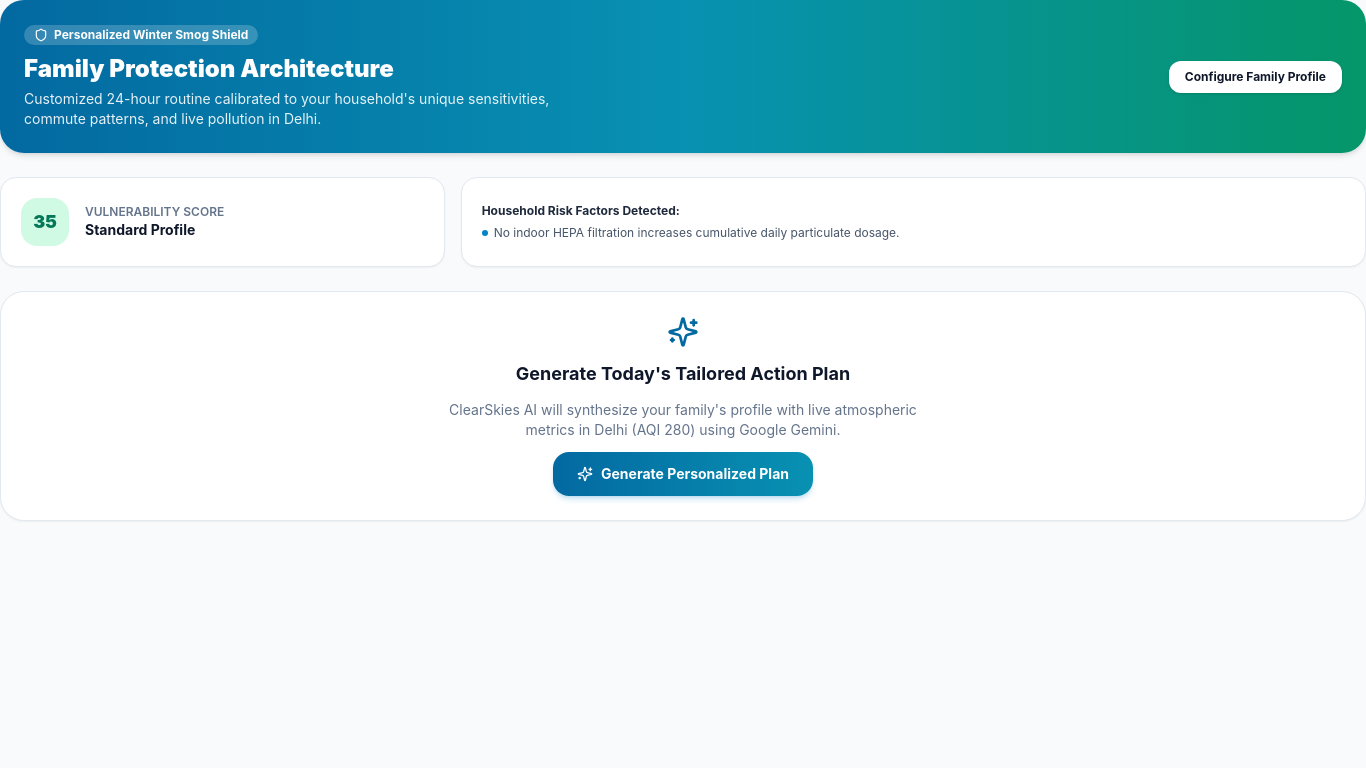
Test: FamilyPlanView › uses a generic alert when plan generation throws a non-Error value
This screenshot has width=1366, height=768.
Click the button "Generate Personalized Plan" at (683, 474), box top-left (553, 452), bottom-right (813, 496)
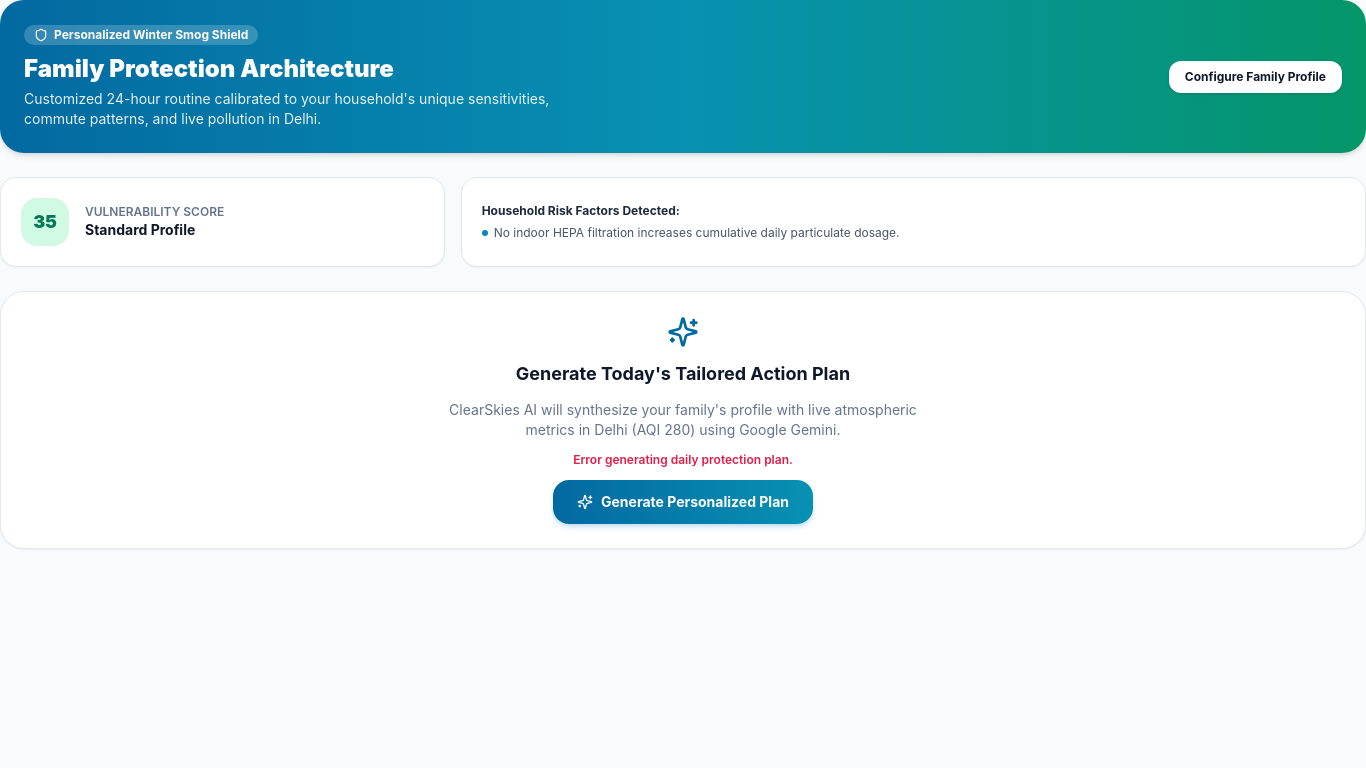
Expected: the message reads "Error generating daily protection plan.", top-left (573, 452), bottom-right (793, 467)
